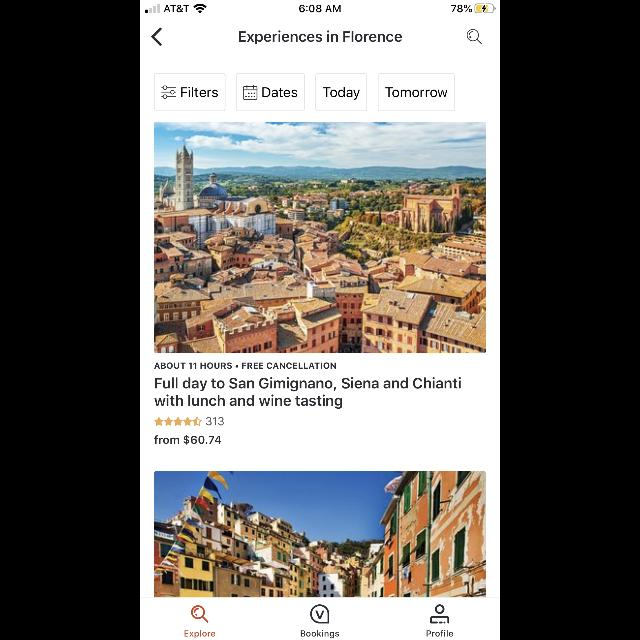icon: (154, 416, 202, 426), (430, 604, 450, 624), (192, 606, 208, 622), (466, 30, 482, 44), (152, 28, 162, 46)
image: (154, 122, 486, 354), (154, 471, 486, 597), (310, 604, 330, 624)
text: (155, 377, 461, 409), (240, 31, 402, 45), (154, 362, 336, 370), (154, 435, 222, 445), (301, 630, 339, 638), (184, 630, 216, 638), (427, 630, 453, 636), (206, 417, 224, 425)
textbutton: (378, 73, 454, 111), (154, 73, 226, 111), (236, 73, 304, 111), (315, 73, 367, 111)
uppertaskbar: (140, 0, 500, 14)
